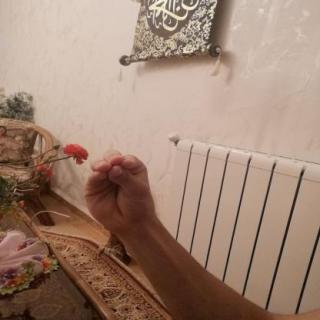HA: (72, 144, 169, 241)
